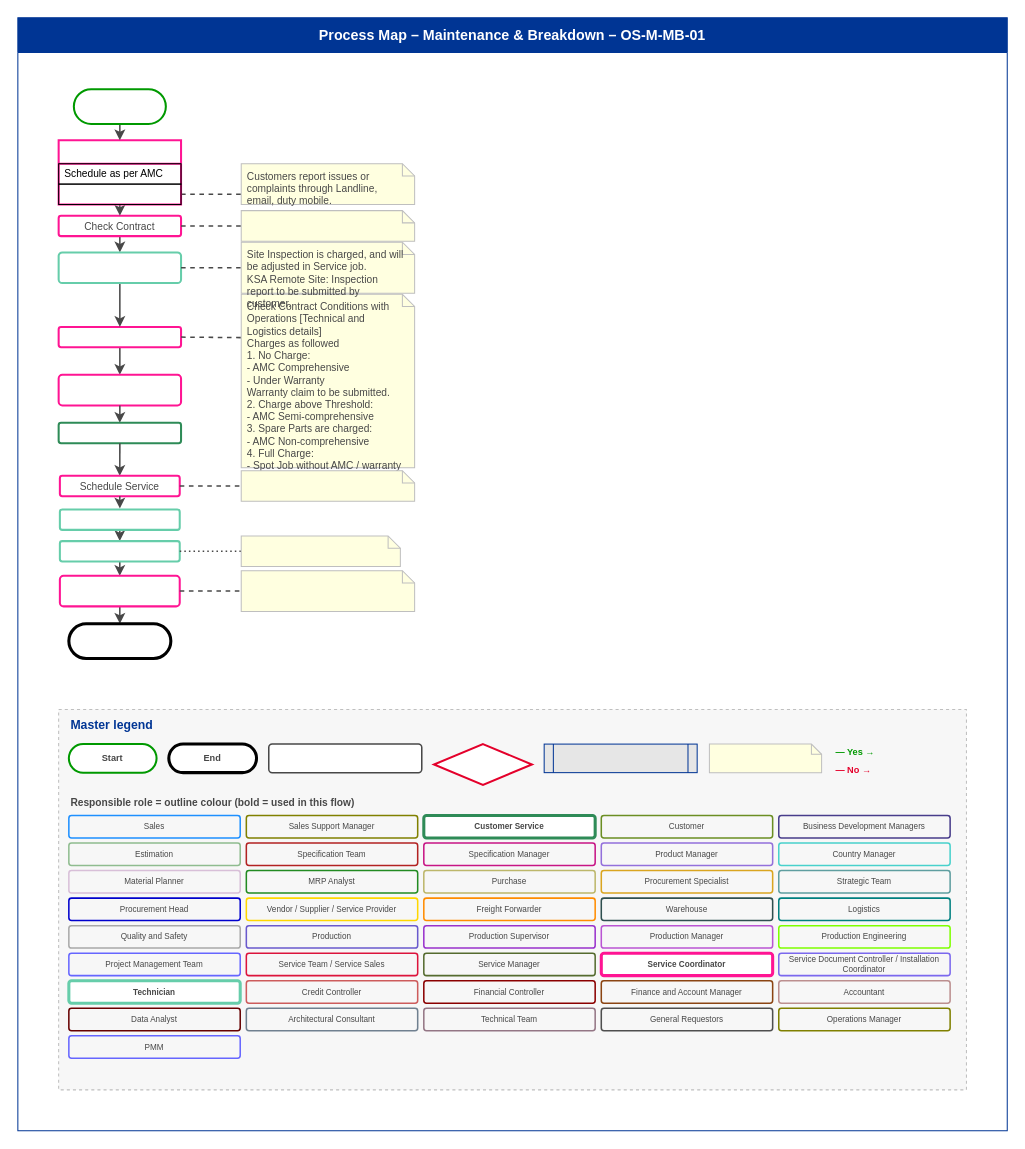
Image size: 1025x1149. Some labels were removed from this diagram. The box of each missing label's shape, as (x1, y1, x2, y2) in pixels:
Activity (outline = role): (268, 743, 422, 773)
Breakdown (Complaint): (58, 183, 181, 205)
Check if installed door is under warranty or AMC: (240, 210, 415, 241)
Customer Approval: (57, 421, 182, 444)
Decision: (432, 743, 532, 785)
Documentation and Invoice: (67, 622, 172, 659)
JCR with Coordinator/s: (58, 540, 180, 562)
KSA: Service Sales Team Documents JCR: (240, 535, 400, 567)
Linked process (Ref ID): (543, 743, 697, 773)
Maintenance: (57, 139, 182, 205)
Maintenance Scope Analysis: (72, 88, 166, 124)
Note / checklist: (708, 743, 822, 773)
Prepare Quotation: (57, 325, 182, 348)
Proceed with Service: (58, 508, 180, 530)
Schedule technicians for the breakdown or scope.: (240, 470, 415, 501)
Share CM/PPM service report copy from technicians. KSA: Service Sales Team:: (240, 570, 415, 611)
Share Documents with Document controller: (58, 574, 180, 607)
Share Quotation with Customer for Approval: (57, 373, 182, 406)
Site Inspection and E-mail report: (57, 251, 182, 284)
